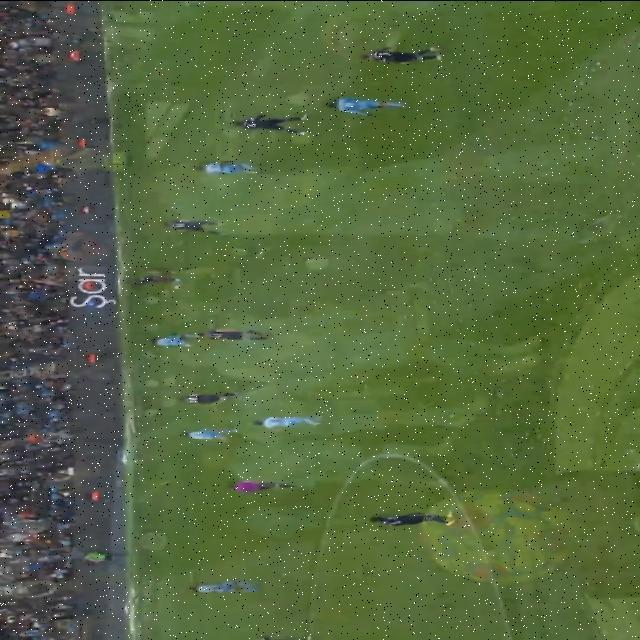player: (318, 92, 418, 118), (366, 505, 466, 529), (348, 43, 454, 65), (228, 110, 320, 134), (176, 420, 247, 446), (187, 575, 270, 597), (204, 321, 278, 343), (178, 386, 250, 406), (195, 158, 266, 176), (125, 271, 187, 291), (258, 411, 326, 429), (146, 331, 202, 349), (166, 215, 226, 231)
referee: (225, 472, 305, 496)
